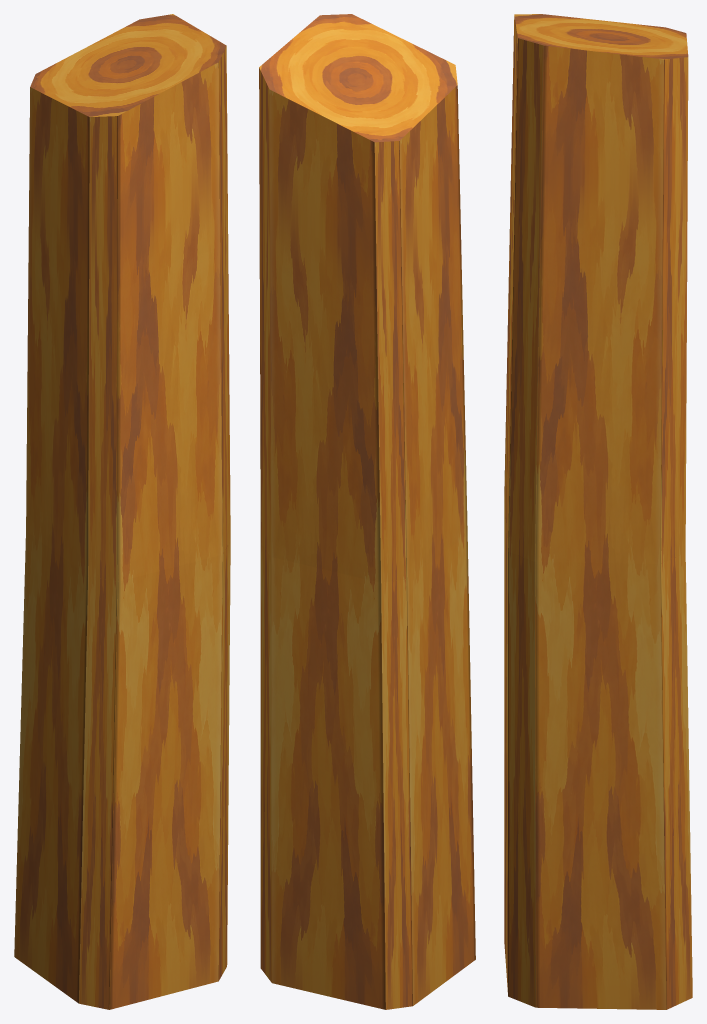
File: fence_w_post.glb
The picture shows the model from 3 angles, left to right: view 1: azimuth 30°, elevation 25°; view 2: azimuth 150°, elevation 25°; view 3: azimuth 270°, elevation 25°; orthographic projection. The views are drawn at different scales.
Visible parts, largest first — view 1: fence_w_post; view 2: fence_w_post; view 3: fence_w_post.
Part boxes in pixels (x1=…): fence_w_post: x1=14, y1=14, x2=230, y2=1009; fence_w_post: x1=259, y1=14, x2=475, y2=1009; fence_w_post: x1=504, y1=14, x2=692, y2=1009.
Bounding box in the file's own units: 0.2123 × 1.19 × 0.2102.
1 material, 1 textured.
